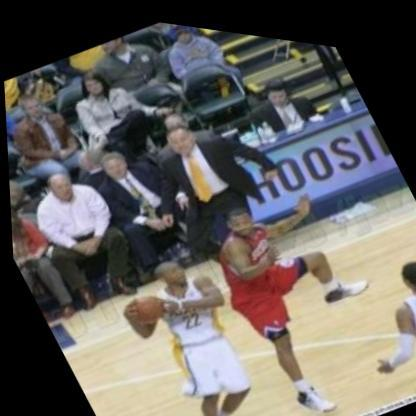basketball: (116, 279, 174, 337)
